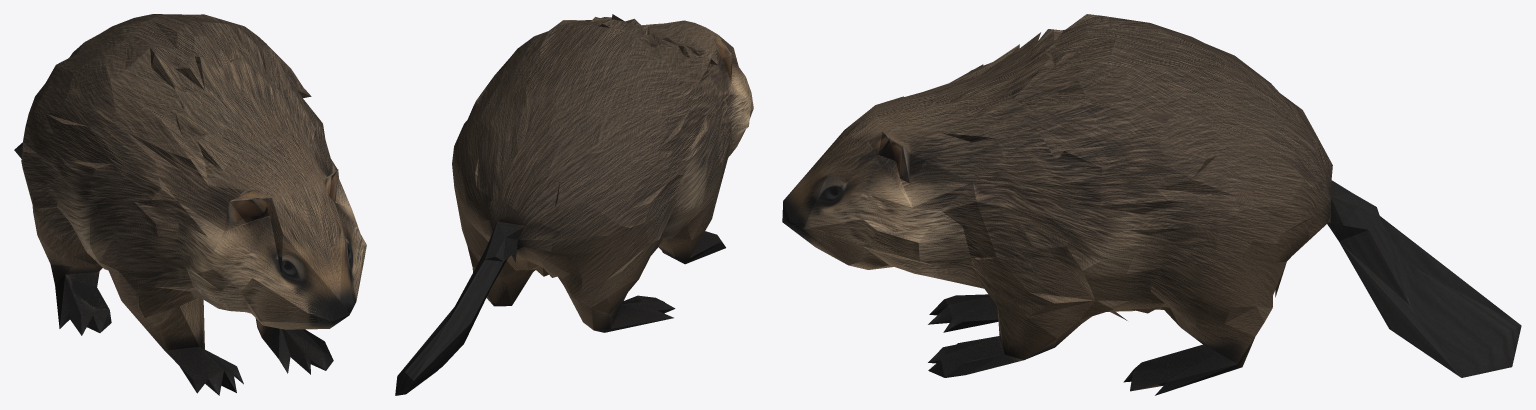
The model's file is beaver.glb.
3 renders of one model, left to right at view 1: azimuth 30°, elevation 25°; view 2: azimuth 150°, elevation 25°; view 3: azimuth 270°, elevation 25°, orthographic. The views are drawn at different scales.
Size of the model in its own units: 0.7189 by 0.8914 by 1.87.
Materials: 1 (1 with a texture image).
